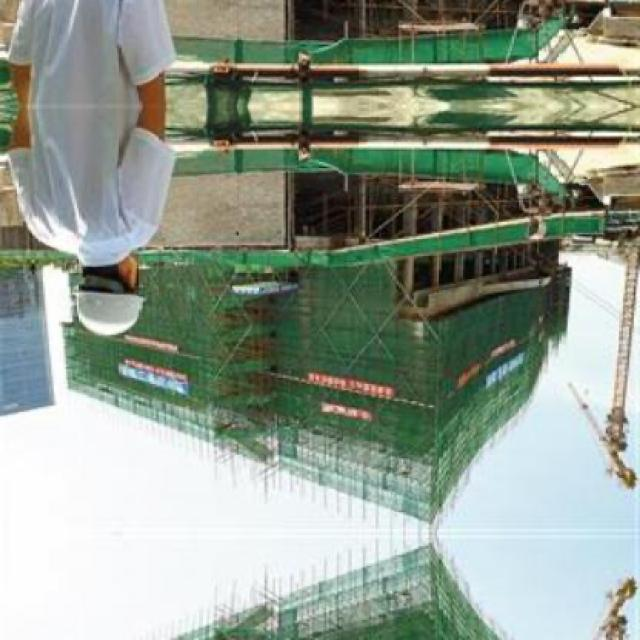con casco: (30, 241, 164, 368)
